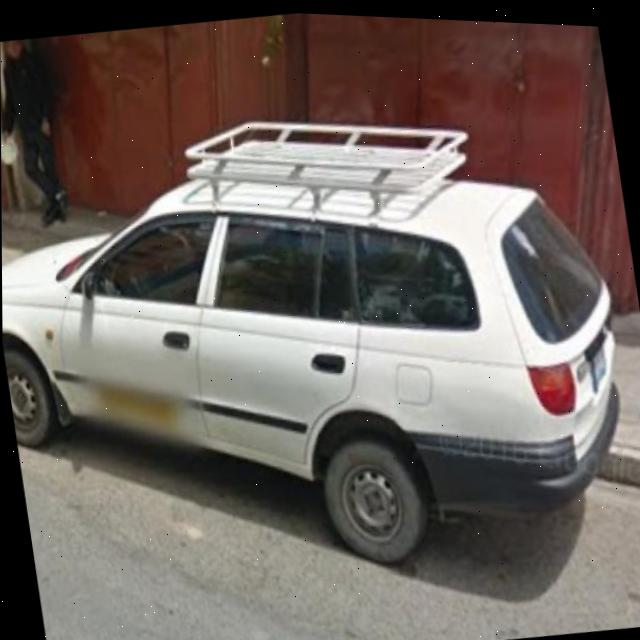vehicle: (1, 87, 640, 633)
